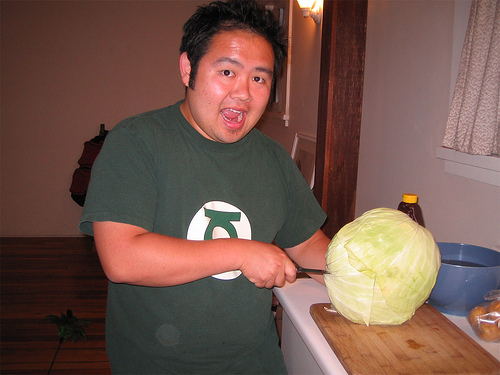cabbage: (322, 203, 442, 327)
